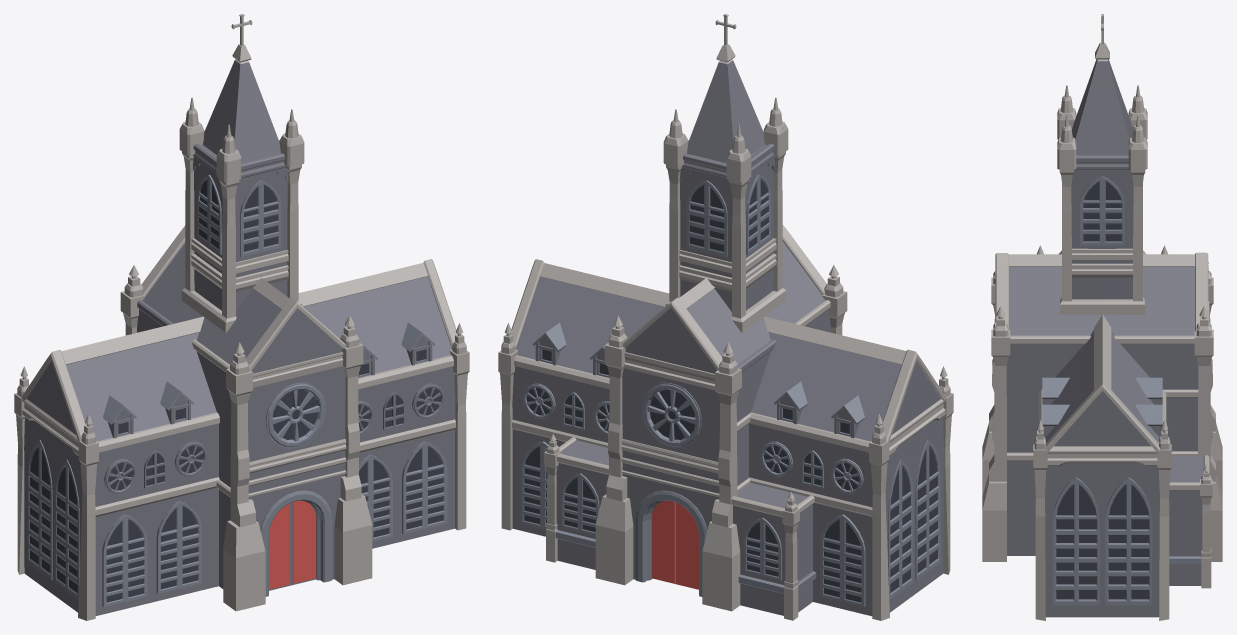
The model's file is Church2.fbx.
The picture shows the model from 3 angles, left to right: view 1: azimuth 30°, elevation 25°; view 2: azimuth 150°, elevation 25°; view 3: azimuth 270°, elevation 25°; orthographic projection. The views are drawn at different scales.
Parts seen in each view (by area): view 1: Church2; view 2: Church2; view 3: Church2.
Boxes of the visible parts, box(x1,y1,x2,y2) form: Church2: box(14, 14, 469, 620); Church2: box(498, 14, 953, 620); Church2: box(982, 14, 1222, 620).
Size of the model in its own units: 692 by 914 by 386.
